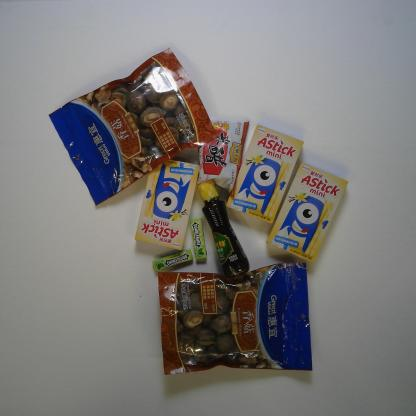Dessert: (264, 161, 349, 264), (226, 124, 304, 225), (134, 159, 201, 252)
Dried Food: (48, 45, 220, 210), (157, 261, 314, 377)
Gum: (152, 247, 194, 273), (189, 217, 207, 260)
Seasoner: (196, 179, 250, 279), (194, 119, 250, 200)
